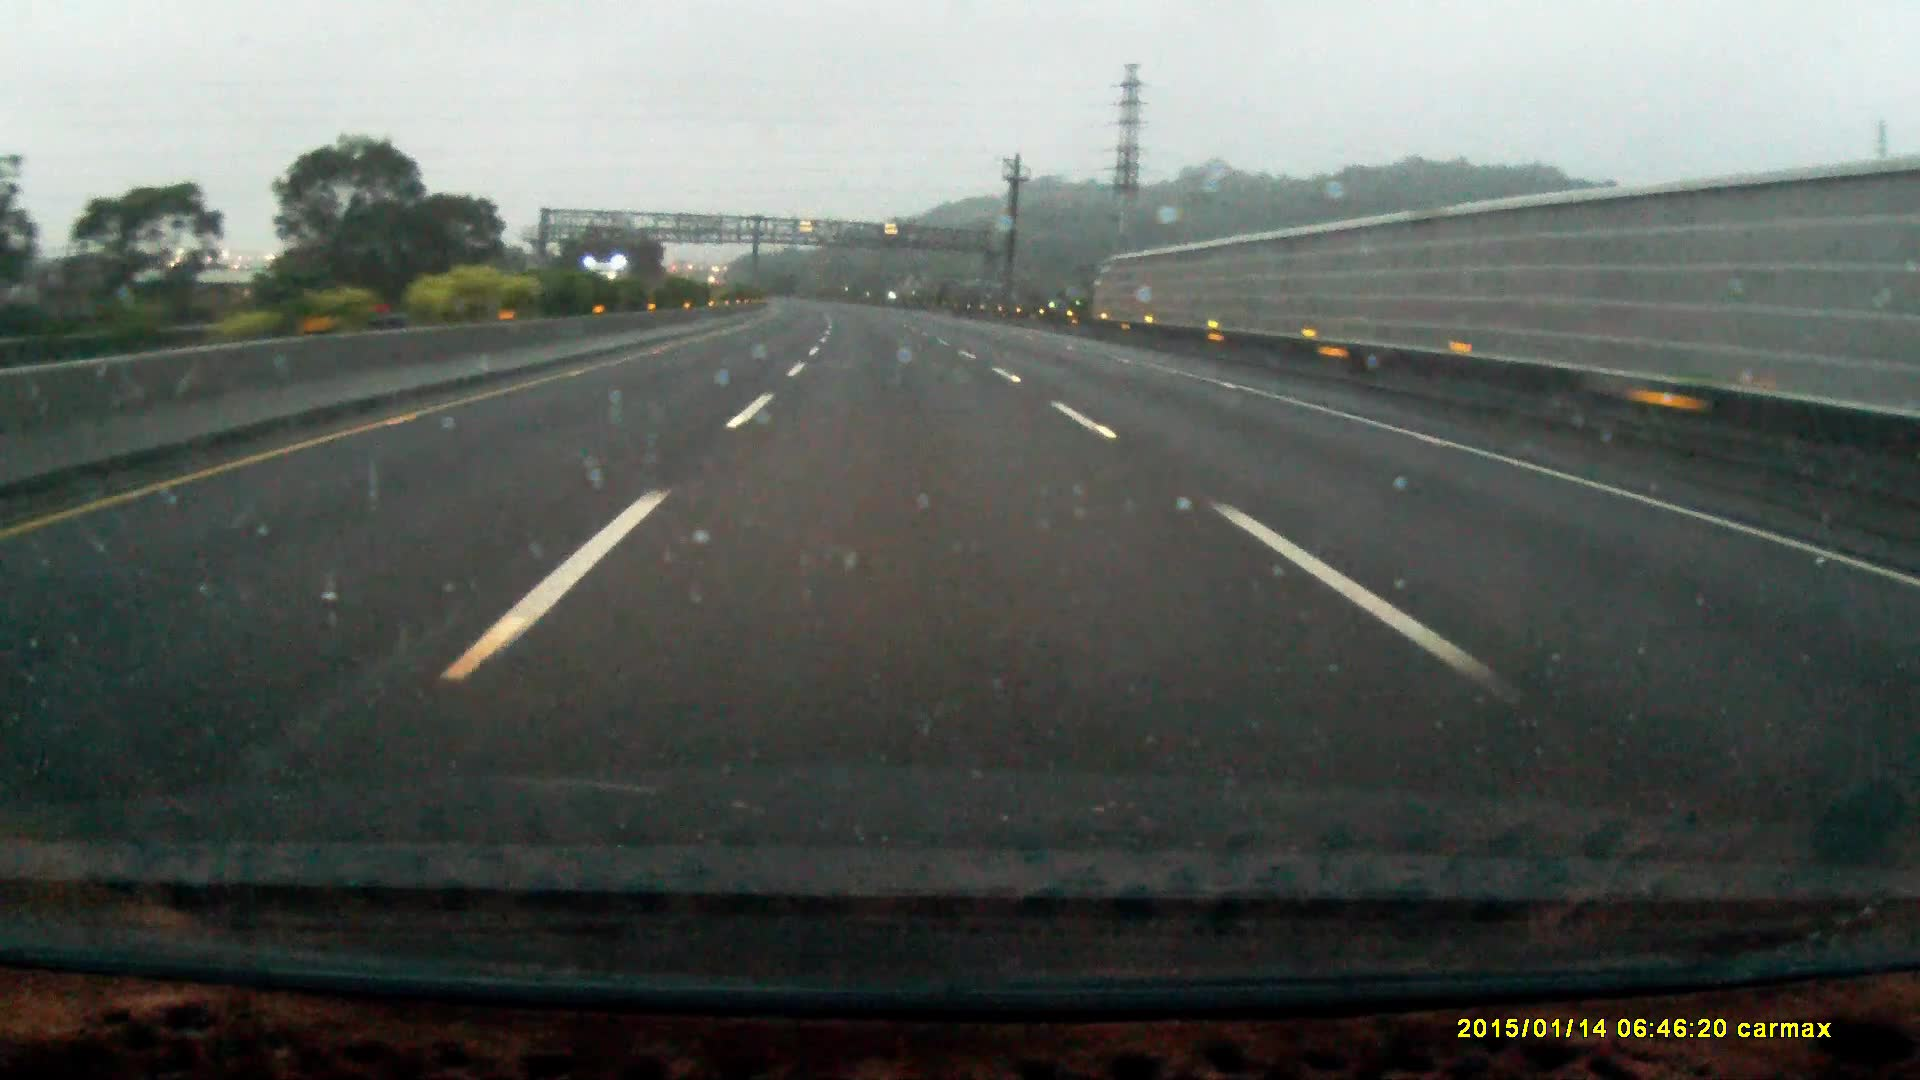vehicle: (585, 258, 632, 313)
